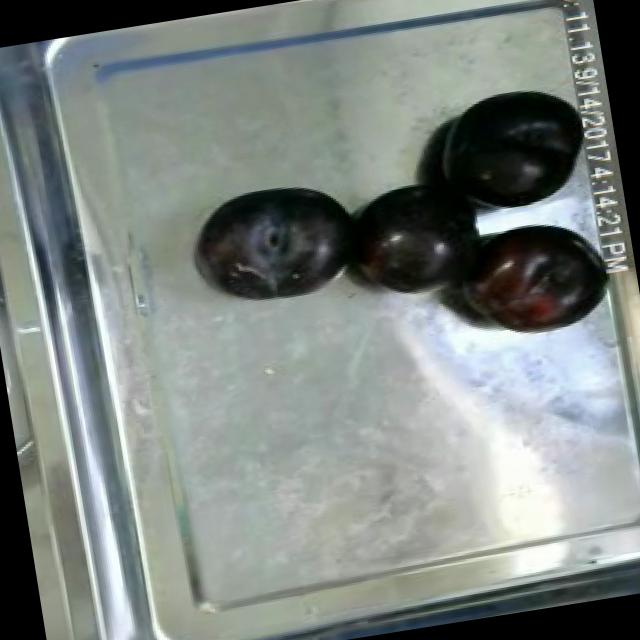Fruit: (182, 168, 374, 312), (421, 75, 598, 228), (441, 203, 618, 354), (331, 163, 501, 311)
